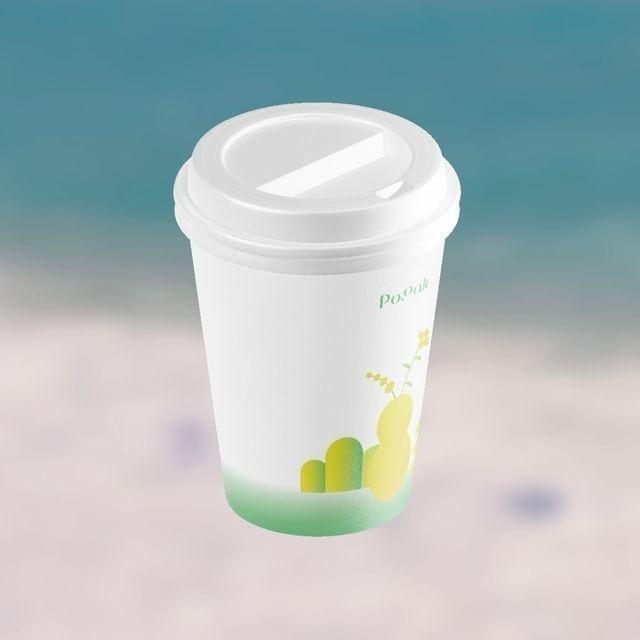cup-disposable: (173, 91, 464, 546)
